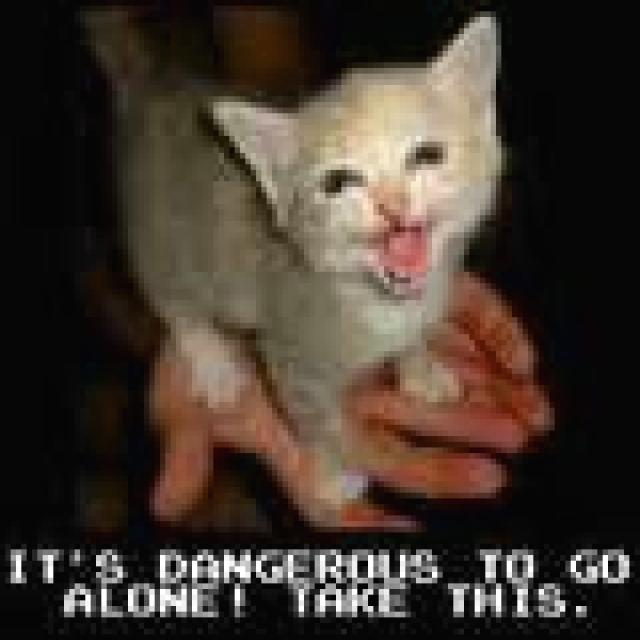KEDI: (76, 10, 502, 494)
